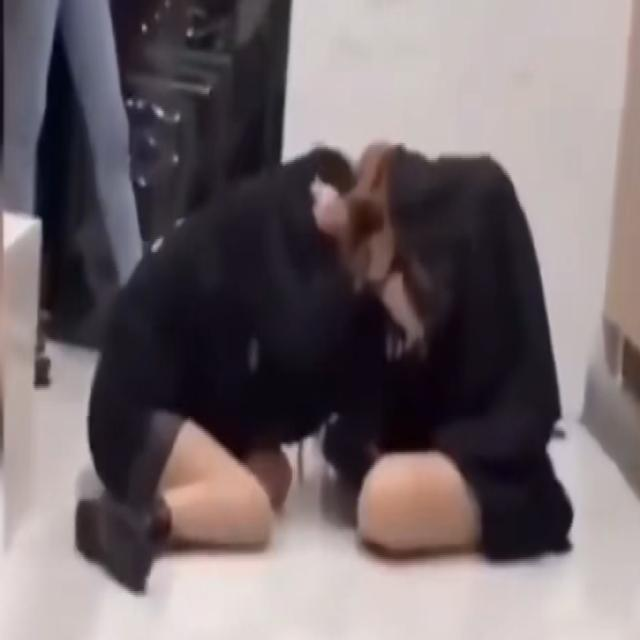fight: (97, 148, 570, 580)
